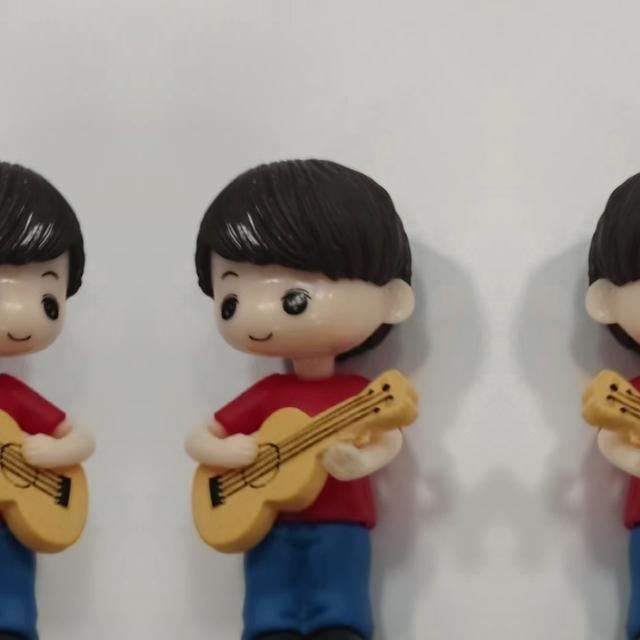man cloth: (218, 369, 400, 527), (0, 369, 62, 527), (600, 369, 640, 527)
man head: (190, 154, 420, 366), (0, 154, 90, 366), (580, 154, 640, 366)
trousers: (242, 516, 378, 640), (0, 516, 38, 640), (621, 516, 640, 640)
